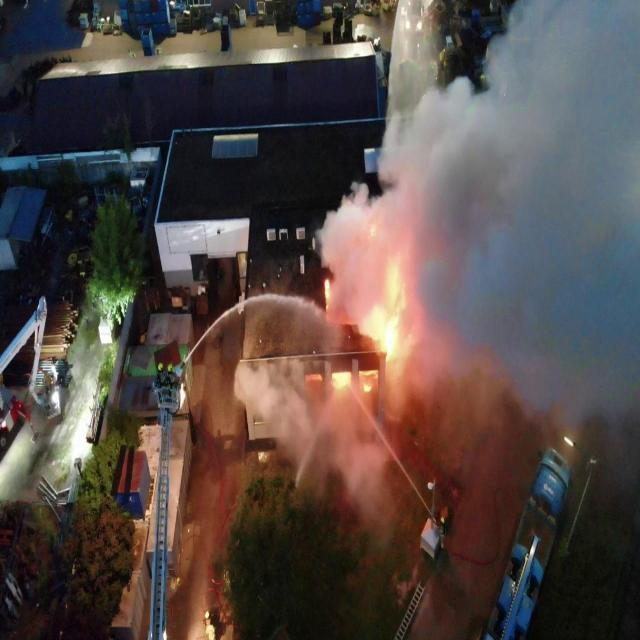Fire: (385, 317, 398, 357), (332, 372, 351, 388), (359, 370, 379, 378), (324, 279, 329, 299), (364, 383, 372, 393)
Smoke: (313, 0, 640, 490), (234, 356, 397, 551)
